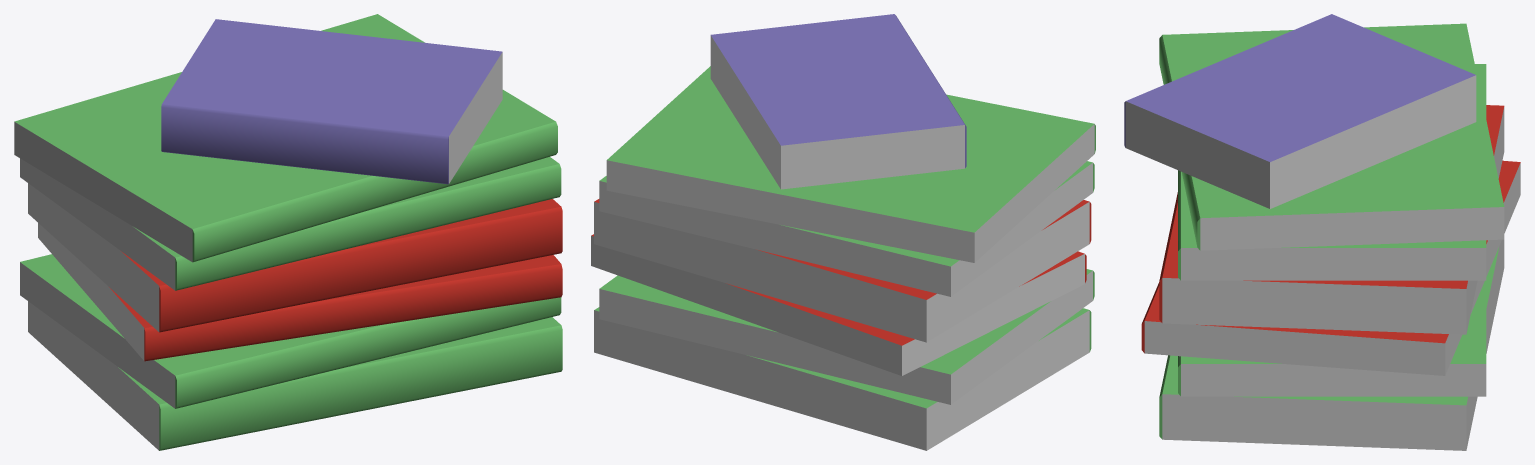
Rendered from livingRoomBook02.FBX.
The picture shows the model from 3 angles, left to right: view 1: azimuth 30°, elevation 25°; view 2: azimuth 150°, elevation 25°; view 3: azimuth 270°, elevation 25°; orthographic projection. The views are drawn at different scales.
Parts seen in each view (by area): view 1: livingRoomBook02; view 2: livingRoomBook02; view 3: livingRoomBook02.
Boxes of the visible parts, x1,y1,x2,y2 form: livingRoomBook02: (14,14,562,450); livingRoomBook02: (591,14,1095,450); livingRoomBook02: (1124,14,1520,450).
Bounding box in the file's own units: 64.53 × 40.27 × 52.51.
